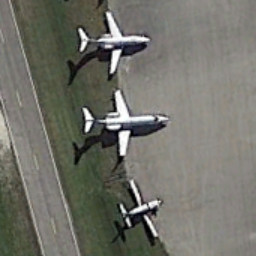Airplane: (77, 87, 179, 160), (64, 5, 154, 85), (103, 173, 182, 247)
